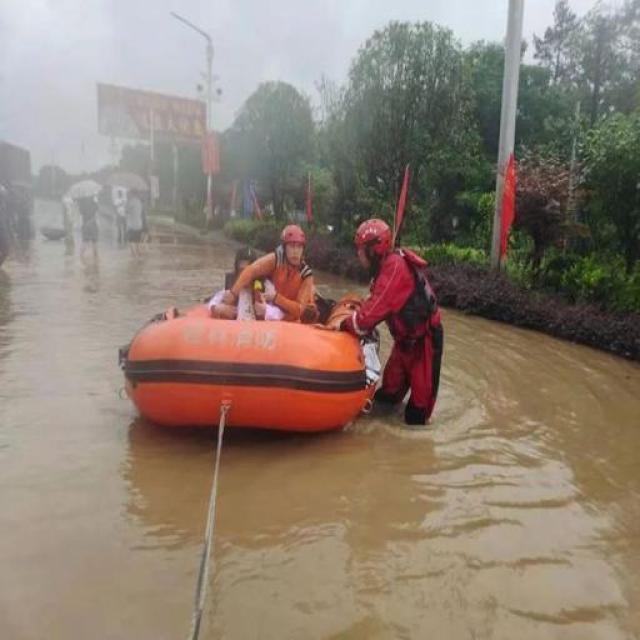rescuer: (351, 216, 447, 454), (272, 227, 316, 318)
